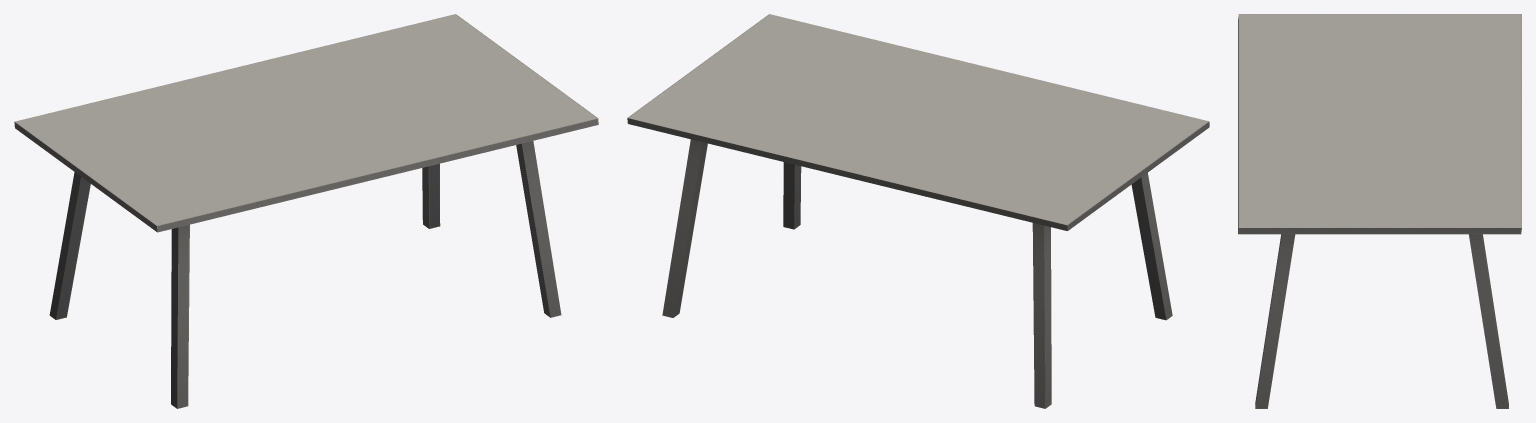
File: SM_Rectangle_Table.FBX
The picture shows the model from 3 angles, left to right: view 1: azimuth 30°, elevation 25°; view 2: azimuth 150°, elevation 25°; view 3: azimuth 270°, elevation 25°; orthographic projection.
Visible parts, largest first — view 1: SM_Rectangle_Table; view 2: SM_Rectangle_Table; view 3: SM_Rectangle_Table.
Part boxes in pixels (x1,y1,x2,y2): SM_Rectangle_Table: [14, 14, 598, 408]; SM_Rectangle_Table: [627, 14, 1209, 408]; SM_Rectangle_Table: [1238, 14, 1521, 408].
Size of the model in its own units: 233 by 130 by 98.72.
